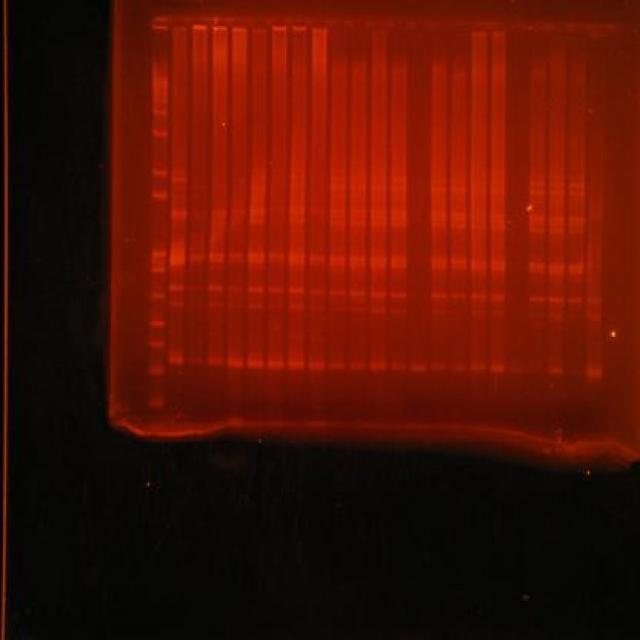B: (564, 364, 584, 379), (584, 363, 602, 379), (545, 363, 564, 377), (226, 356, 245, 369), (266, 358, 285, 371), (368, 361, 387, 374), (328, 359, 346, 372), (410, 362, 428, 375), (470, 362, 488, 375), (167, 354, 186, 366), (246, 358, 265, 370), (349, 359, 366, 372), (286, 359, 306, 370), (308, 360, 326, 372), (206, 356, 225, 367), (286, 332, 306, 342), (286, 286, 306, 296), (526, 294, 546, 304), (430, 362, 448, 373), (450, 362, 468, 373), (584, 310, 602, 321), (188, 357, 205, 368), (489, 363, 506, 374), (584, 296, 602, 306), (526, 311, 546, 320), (226, 301, 245, 310), (390, 362, 407, 372), (528, 260, 546, 269), (288, 302, 304, 312), (286, 252, 306, 260), (350, 306, 366, 316), (490, 308, 506, 318), (546, 220, 566, 228), (587, 214, 604, 223), (470, 270, 487, 279), (246, 252, 265, 260), (348, 219, 367, 227), (368, 290, 387, 298), (448, 186, 467, 194), (468, 178, 487, 186), (488, 187, 507, 195), (488, 178, 507, 186), (170, 209, 188, 217), (308, 304, 326, 312), (328, 289, 346, 297), (328, 306, 346, 314), (370, 256, 388, 264), (390, 292, 408, 300), (390, 256, 408, 264), (430, 257, 448, 265), (430, 292, 448, 300), (430, 308, 448, 316), (390, 176, 408, 184), (390, 184, 408, 192), (390, 220, 408, 228), (585, 261, 601, 270), (548, 310, 564, 319), (568, 182, 586, 190), (450, 256, 468, 264), (470, 258, 488, 266), (470, 223, 488, 231), (528, 226, 546, 234), (528, 213, 546, 221), (528, 180, 546, 188), (548, 188, 566, 196), (548, 180, 566, 188), (448, 178, 468, 185), (168, 285, 185, 293), (168, 300, 185, 308), (250, 183, 267, 191), (190, 220, 207, 228), (210, 220, 227, 228), (208, 284, 225, 292), (207, 329, 224, 337), (247, 286, 264, 294), (289, 182, 306, 190), (289, 174, 306, 182), (349, 290, 366, 298), (349, 255, 366, 263), (370, 307, 387, 315), (389, 307, 406, 315), (430, 222, 447, 230), (566, 296, 583, 304), (567, 263, 584, 271), (410, 292, 427, 300), (450, 292, 467, 300), (469, 292, 486, 300), (470, 310, 487, 318), (489, 258, 506, 266), (248, 300, 263, 309), (228, 208, 247, 215), (568, 175, 587, 182), (228, 285, 244, 293), (268, 287, 284, 295), (548, 296, 564, 304), (248, 218, 266, 225), (528, 188, 546, 195), (208, 300, 223, 308), (388, 208, 408, 214), (546, 262, 566, 268), (546, 268, 566, 274), (566, 216, 586, 222), (546, 228, 566, 234), (546, 214, 566, 220), (170, 175, 187, 182), (430, 178, 447, 185), (328, 214, 347, 220), (328, 208, 347, 214), (328, 176, 347, 182), (368, 262, 387, 268), (368, 184, 387, 190), (249, 170, 268, 176), (488, 224, 507, 230), (488, 212, 507, 218), (490, 292, 504, 300), (168, 256, 186, 262), (168, 262, 186, 268), (190, 184, 208, 190), (210, 184, 228, 190), (208, 258, 226, 264), (248, 206, 266, 212), (268, 206, 286, 212), (288, 218, 306, 224), (288, 212, 306, 218), (288, 206, 306, 212), (228, 220, 246, 226), (308, 254, 326, 260), (308, 261, 326, 267), (308, 290, 326, 296), (308, 207, 326, 213), (328, 262, 346, 268), (328, 268, 346, 274), (390, 263, 408, 269), (430, 264, 448, 270), (370, 176, 388, 182), (370, 208, 388, 214), (370, 214, 388, 220), (370, 221, 388, 227), (390, 214, 408, 220), (250, 176, 268, 182), (210, 176, 228, 182), (450, 308, 468, 314), (450, 222, 468, 228), (450, 216, 468, 222), (450, 210, 468, 216), (470, 212, 488, 218), (528, 220, 546, 226), (528, 270, 546, 276), (170, 216, 187, 222), (190, 214, 207, 220), (170, 222, 187, 228), (210, 214, 227, 220), (227, 258, 244, 264), (247, 260, 264, 266), (329, 220, 346, 226), (329, 256, 346, 262), (329, 184, 346, 190), (349, 262, 366, 268), (349, 213, 366, 219), (349, 208, 366, 214), (350, 183, 367, 189), (350, 177, 367, 183), (349, 268, 366, 274), (430, 216, 447, 222), (430, 211, 447, 217), (430, 187, 447, 193), (567, 270, 584, 276), (569, 191, 586, 197), (450, 264, 467, 270), (470, 218, 487, 224), (470, 187, 487, 193), (489, 266, 506, 272), (489, 218, 506, 224), (229, 214, 246, 220), (228, 252, 244, 258), (268, 303, 284, 309), (268, 253, 284, 259), (268, 260, 284, 266), (288, 260, 304, 266), (308, 336, 324, 342), (568, 227, 584, 233), (568, 221, 584, 227), (171, 184, 186, 190), (171, 194, 186, 200), (210, 210, 228, 215), (470, 266, 488, 271), (249, 212, 266, 217), (208, 253, 224, 258), (191, 210, 206, 215), (190, 255, 204, 260), (190, 260, 204, 265)
L: (144, 8, 630, 46)
M: (145, 46, 170, 412)
P: (148, 396, 166, 409), (150, 167, 168, 178), (151, 189, 167, 200), (152, 127, 168, 138), (152, 106, 168, 117), (148, 367, 164, 376), (148, 340, 164, 349), (152, 96, 168, 105), (148, 321, 166, 328), (150, 251, 167, 257), (150, 267, 164, 273), (150, 293, 164, 299), (152, 86, 168, 91), (152, 92, 168, 96)
Pc: (350, 12, 368, 36), (568, 20, 587, 42), (170, 14, 190, 34), (608, 20, 626, 42), (588, 22, 607, 42), (230, 15, 248, 34), (250, 16, 268, 35), (548, 22, 567, 40), (529, 20, 546, 40), (509, 20, 526, 40), (490, 18, 507, 37), (312, 14, 328, 34), (372, 14, 388, 34), (190, 15, 208, 32), (270, 15, 288, 32), (290, 15, 308, 32), (331, 15, 347, 34), (150, 16, 168, 32), (212, 16, 228, 33), (392, 16, 408, 33), (472, 20, 488, 37), (432, 18, 448, 34), (411, 16, 426, 33), (450, 20, 468, 34)
